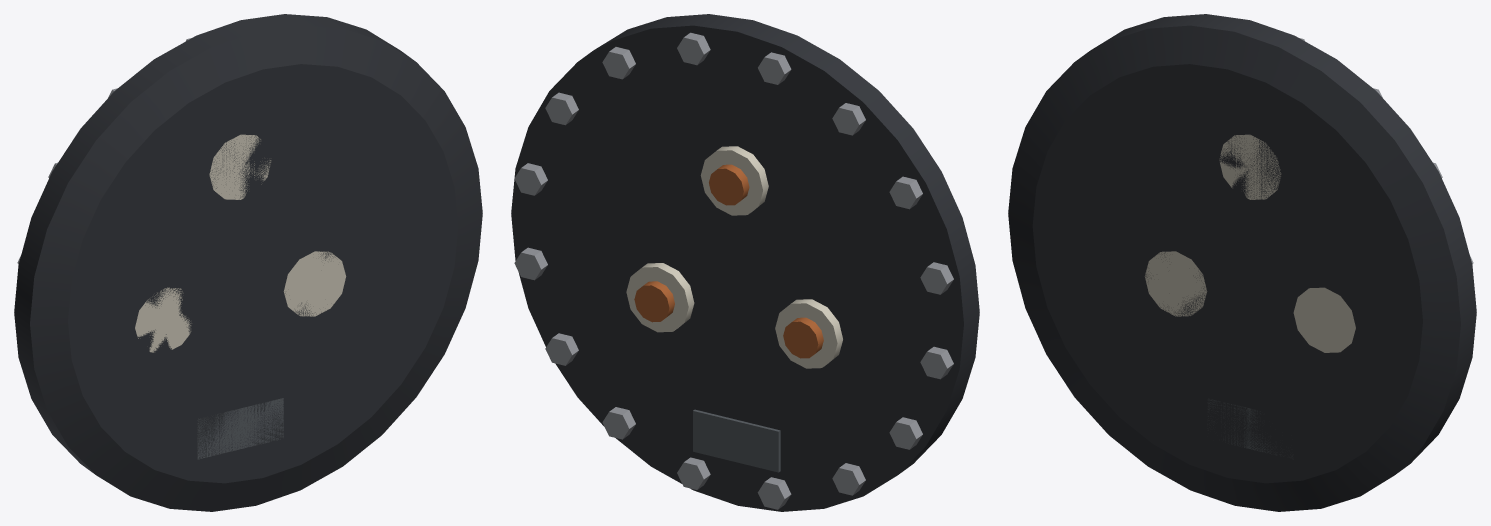
File: s60_flange.obj
The picture shows the model from 3 angles, left to right: view 1: azimuth 30°, elevation 25°; view 2: azimuth 150°, elevation 25°; view 3: azimuth 330°, elevation 25°; orthographic projection.
Parts seen in each view (by area): view 1: s60_flange; view 2: s60_flange; view 3: s60_flange.
Part boxes in pixels (x1,y1,x2,y2): s60_flange: (14,14,482,511); s60_flange: (511,14,979,511); s60_flange: (1008,14,1476,511).
Bounding box in the file's own units: 0.8366 × 0.8366 × 0.1082.
